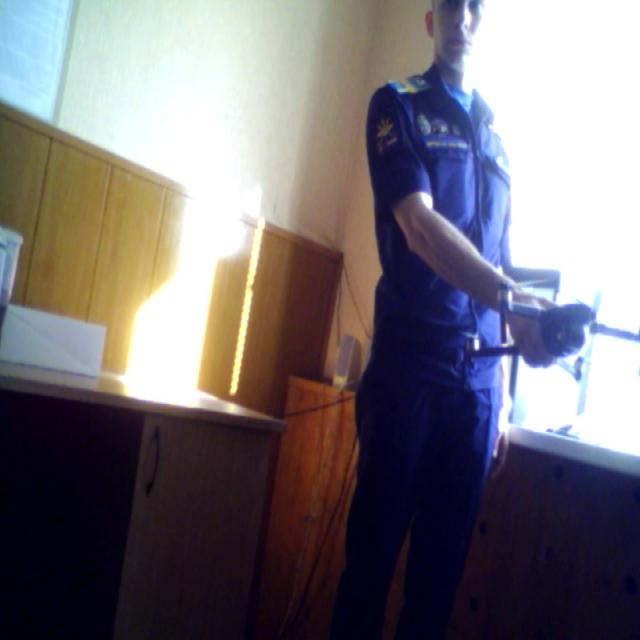drone: (456, 265, 640, 400)
